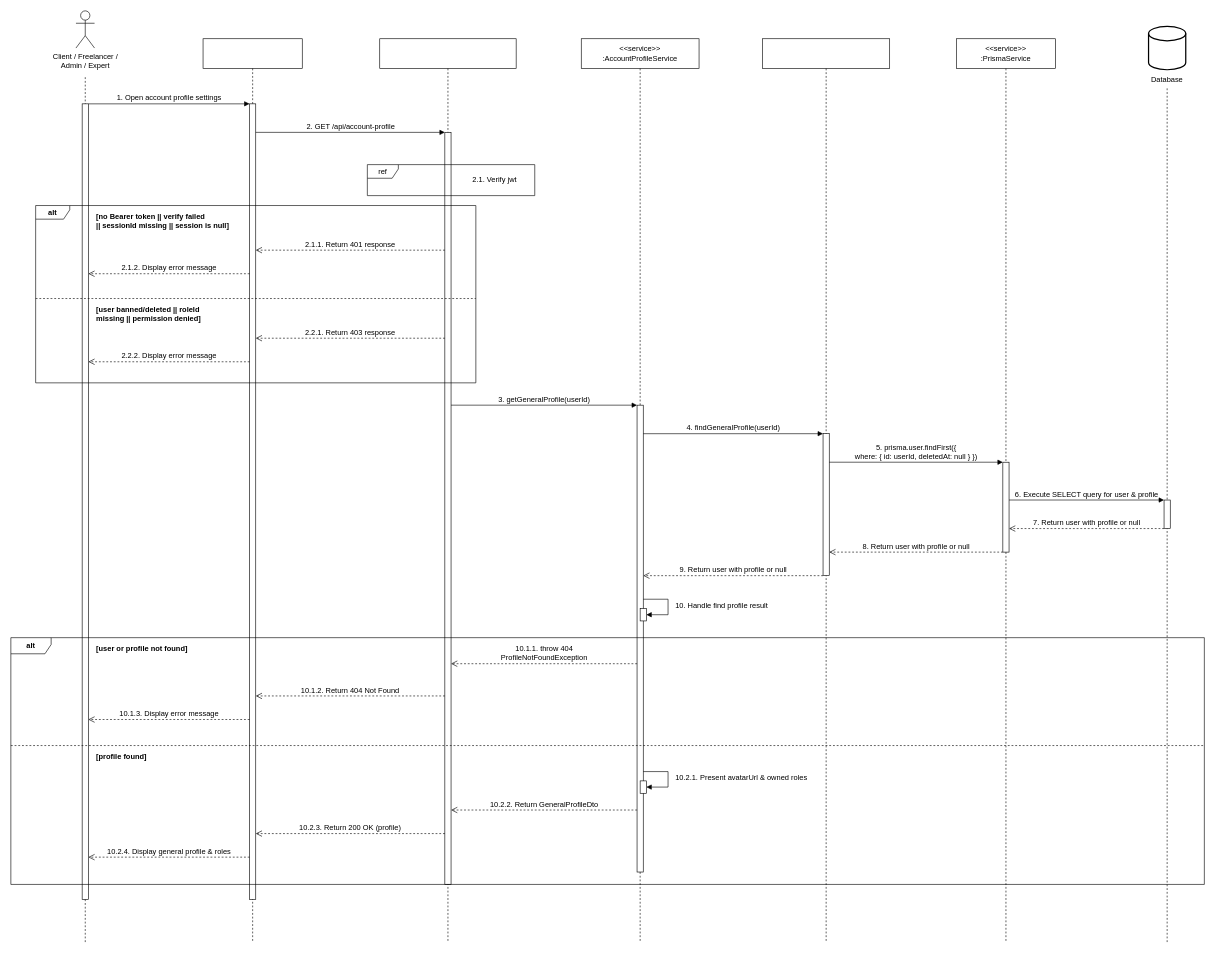
Image size: 1216x954. Some labels were removed from this diagram. The shapes that lost their labels are listed below. From the top down, each one's box as (x1, y1, x2, y2) in pixels, then its label:
(202, 38, 302, 943): <<boundary>> AccountProfileView
(379, 38, 516, 943): <<controller>> :GeneralAccountProfileController
(762, 38, 890, 943): <<repository>> :AccountProfileRepository
